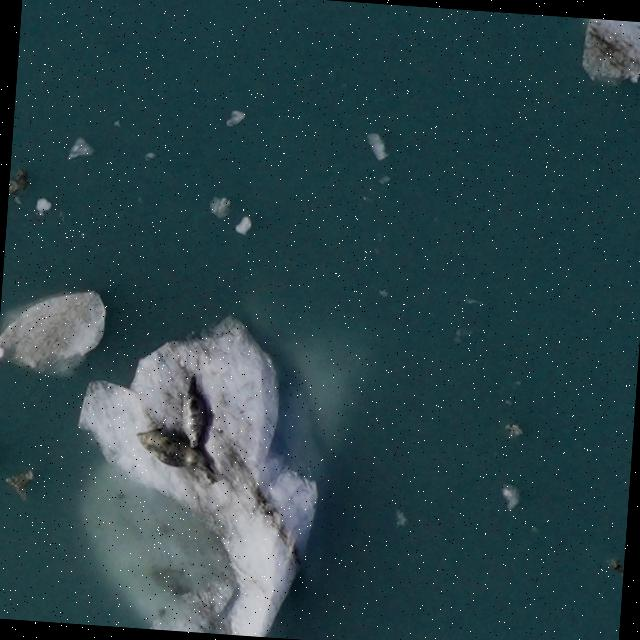seal: (130, 421, 228, 491), (176, 369, 218, 456)
